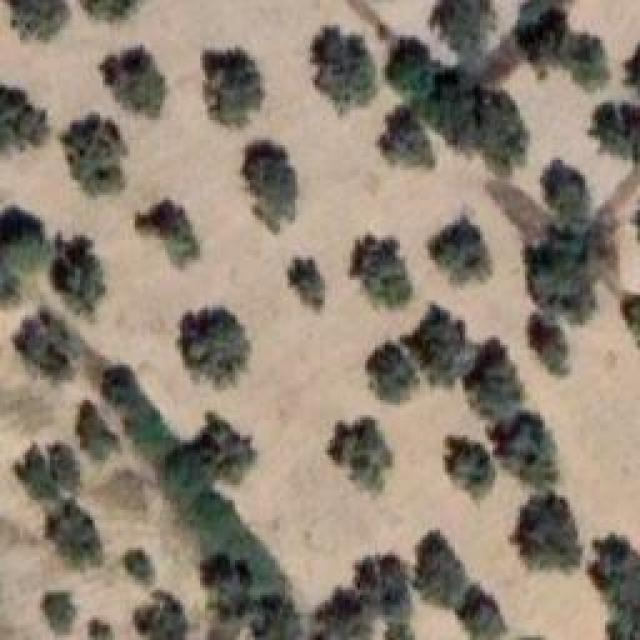Tree: (515, 0, 610, 89), (525, 228, 598, 322), (400, 303, 475, 386), (513, 490, 583, 571), (310, 28, 375, 115), (178, 307, 247, 387), (63, 113, 129, 195), (490, 410, 559, 487), (590, 535, 640, 640), (13, 305, 83, 378), (355, 555, 415, 640), (463, 337, 523, 422), (243, 140, 298, 232), (430, 0, 495, 72), (350, 235, 414, 308), (475, 88, 527, 176), (328, 420, 393, 490), (205, 48, 263, 126), (202, 408, 259, 487), (100, 47, 166, 115), (135, 200, 200, 268), (53, 235, 108, 315), (428, 215, 492, 283), (413, 533, 466, 610), (45, 500, 101, 567), (385, 35, 440, 102), (377, 108, 435, 170), (203, 553, 254, 620), (540, 160, 591, 226), (0, 85, 47, 153), (448, 435, 497, 500), (368, 344, 421, 404), (310, 587, 370, 640), (590, 105, 640, 165), (75, 400, 116, 464), (8, 0, 71, 41), (135, 592, 188, 640), (15, 445, 60, 501), (458, 588, 506, 640), (527, 312, 565, 377), (250, 595, 299, 640), (290, 258, 326, 311), (0, 208, 42, 246), (43, 592, 78, 632), (620, 290, 640, 346), (83, 0, 138, 20), (125, 550, 153, 584), (82, 617, 115, 640)
